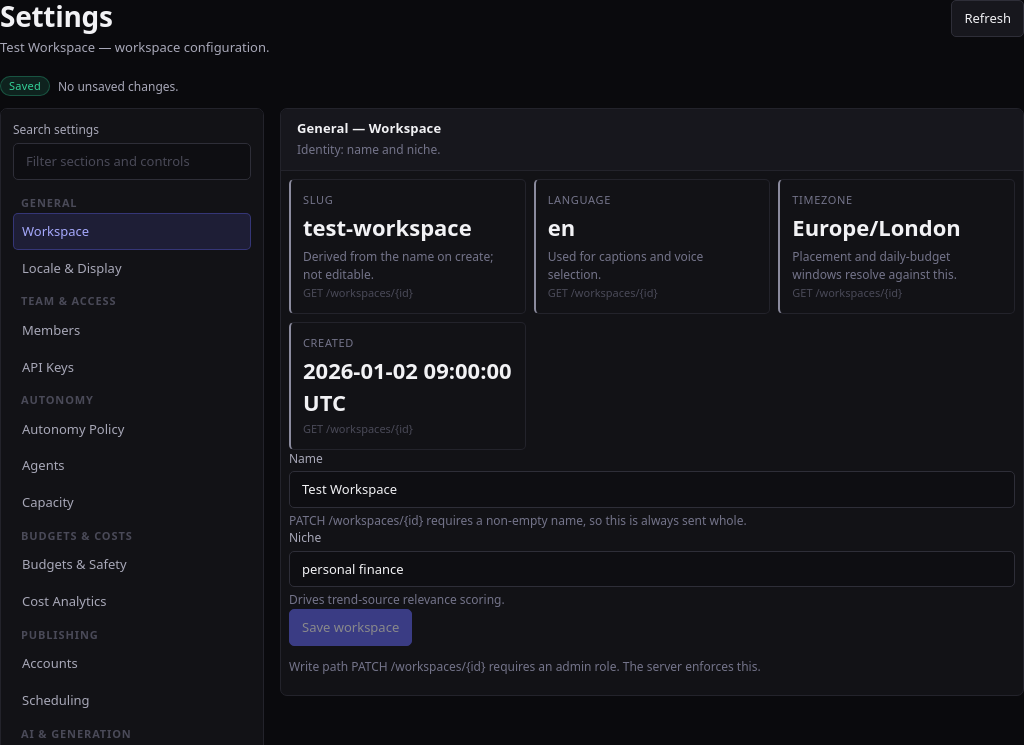
Test case: dirty state and save state › discards a section draft and its dirty bookkeeping on navigation
The image size is (1024, 745).
Step 1. Replace the text in the field labelled "Niche" with "discard me" → (652, 569), box left=289, top=551, right=1015, bottom=587
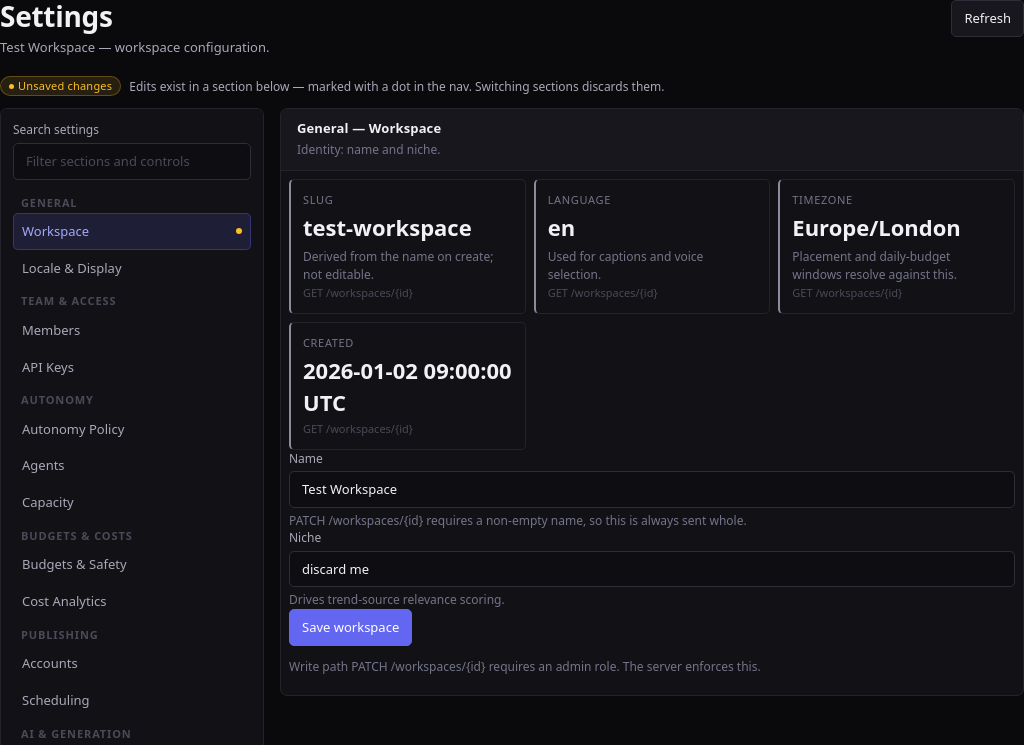
Check: the message named "Save state" shows "Unsaved changes", box left=18, top=78, right=112, bottom=93
Step 2. Click the button "Members" → click(132, 330), box left=13, top=312, right=251, bottom=348
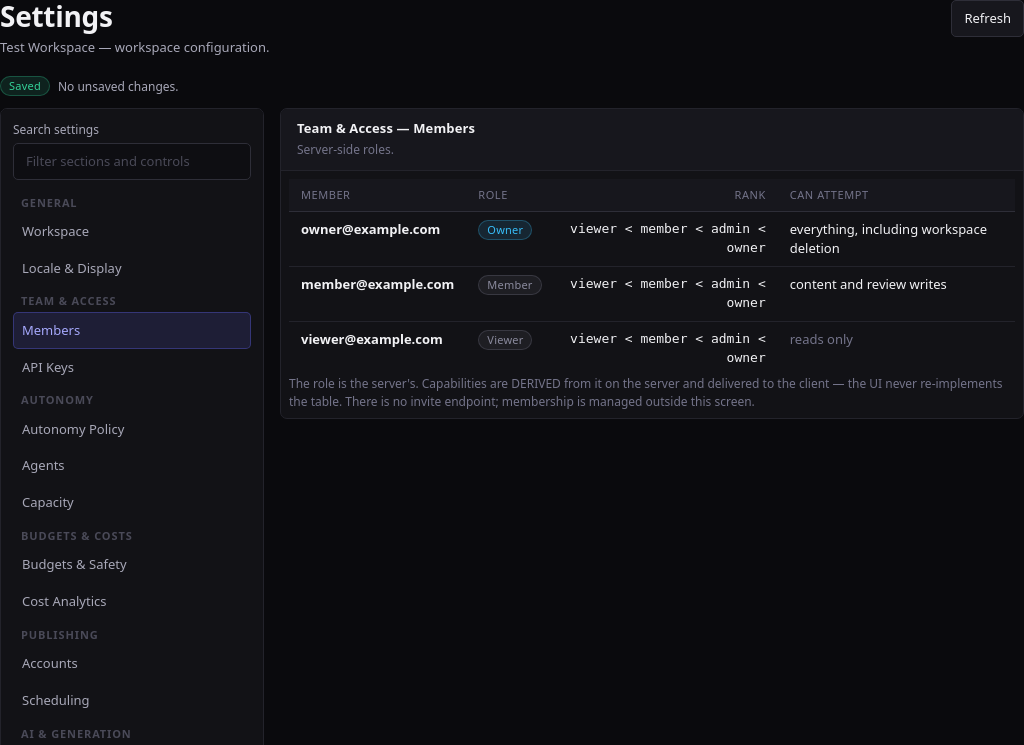
Check: the message named "Save state" shows "No unsaved changes", box left=58, top=78, right=178, bottom=95
Check: the element with class "ymset-dirtydot" is gone
Step 3. Click the button "Workspace" → click(132, 231), box left=13, top=213, right=251, bottom=250
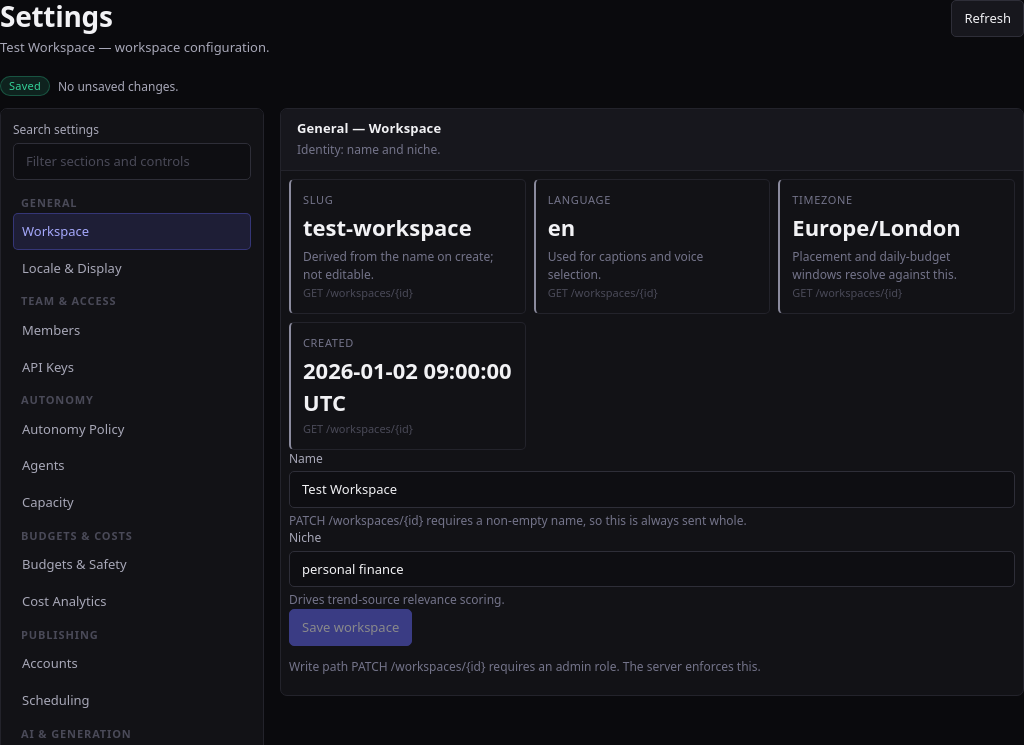
Check: the field labelled "Niche" holds "personal finance", box left=289, top=551, right=1015, bottom=587
